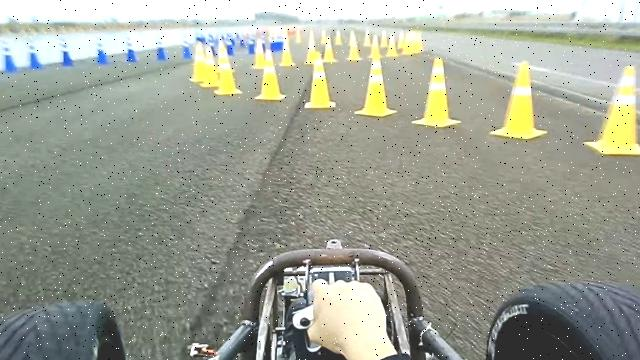blue cone: (360, 353, 420, 360)
yellow cone: (583, 65, 640, 156), (489, 61, 547, 139), (411, 56, 461, 127), (354, 43, 397, 117), (304, 58, 336, 109), (214, 43, 240, 95), (260, 46, 284, 100), (200, 42, 219, 88)
